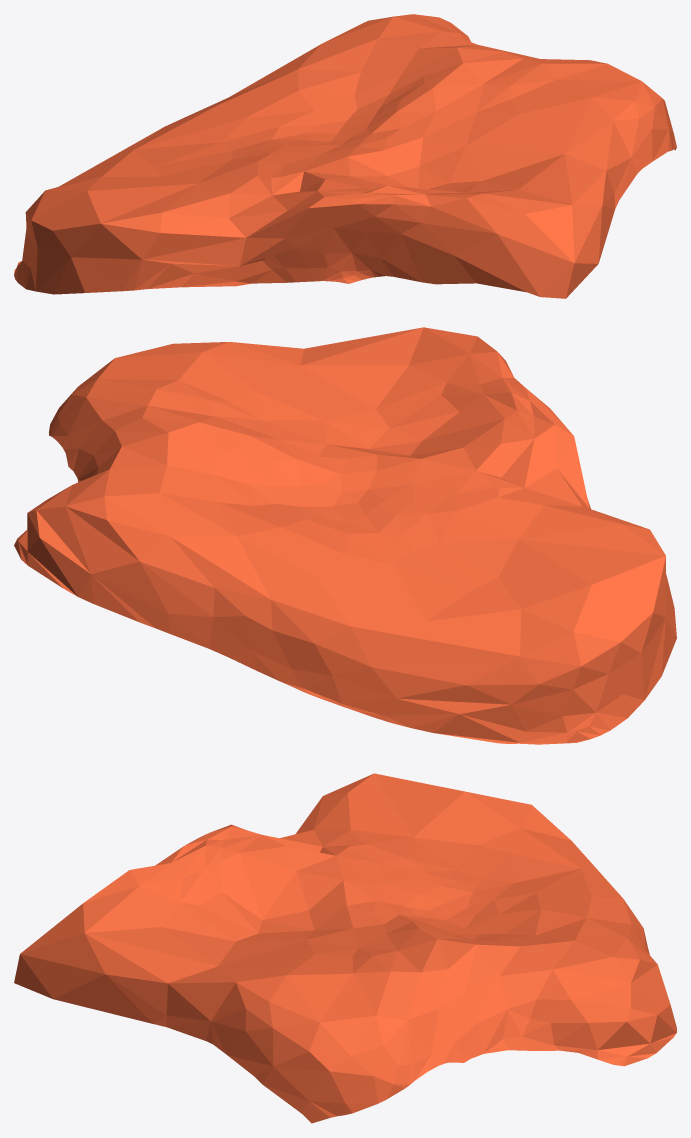
Rendered from ground_032.fbx.
3 renders of one model, top to bottom at view 1: azimuth 30°, elevation 25°; view 2: azimuth 150°, elevation 25°; view 3: azimuth 270°, elevation 25°, orthographic. The views are drawn at different scales.
Parts seen in each view (by area): view 1: ground.032; view 2: ground.032; view 3: ground.032.
Part boxes in pixels (<box>): ground.032: <box>14,14,676,298</box>; ground.032: <box>14,327,676,744</box>; ground.032: <box>14,773,676,1123</box>.
Size of the model in its own units: 2704 by 686 by 2374.
Materials: 1 (1 with a texture image).
